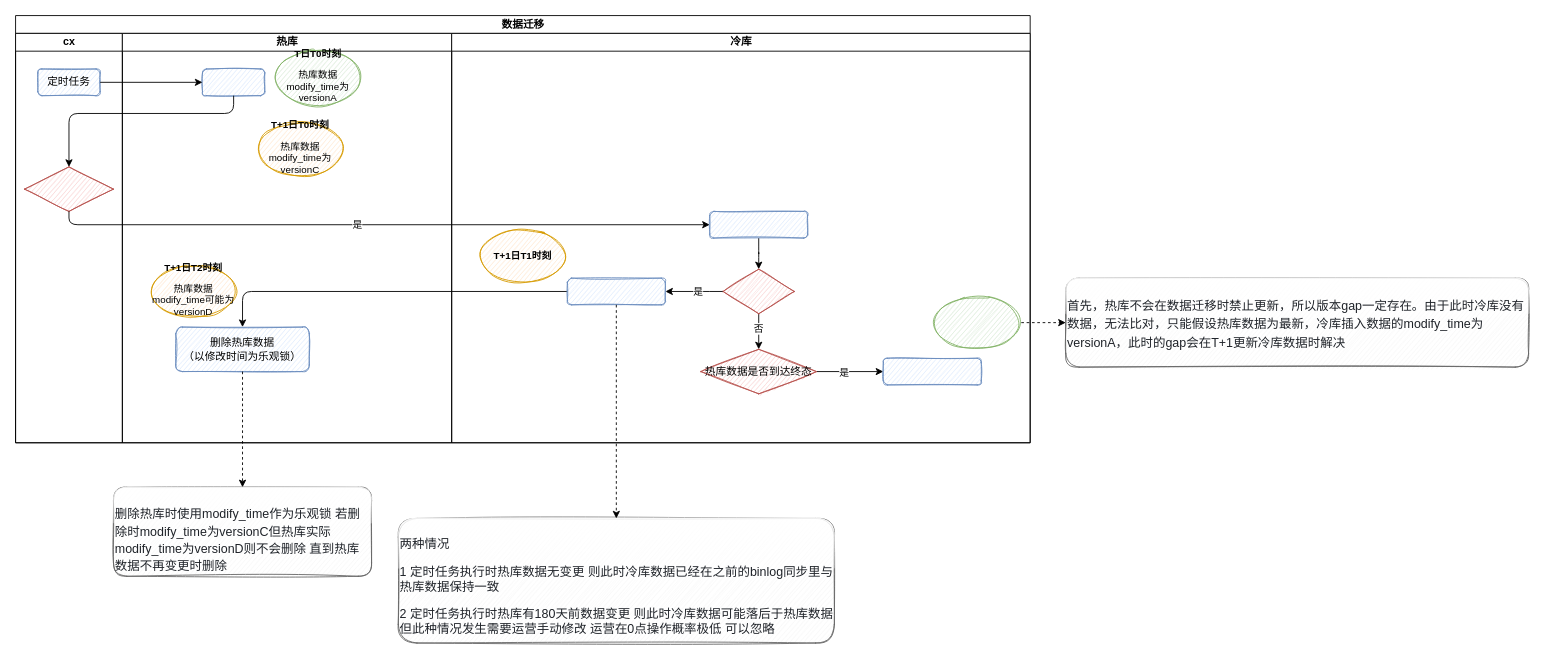
This 1544x665 diagram has some shape labels left out. The shapes that lost their labels are listed below. From the top down, each one's centre as x and y in pixels, then its label:
(233,82): 查询热库
(68,188): 是否180天前数据
(758,224): 查询冷库对应记录
(615,291): 更新冷库数据
(758,291): 记录是否存在
(976,322): T日T1时刻 热库数据modify_time可能为versionB
(931,371): 插入数据
